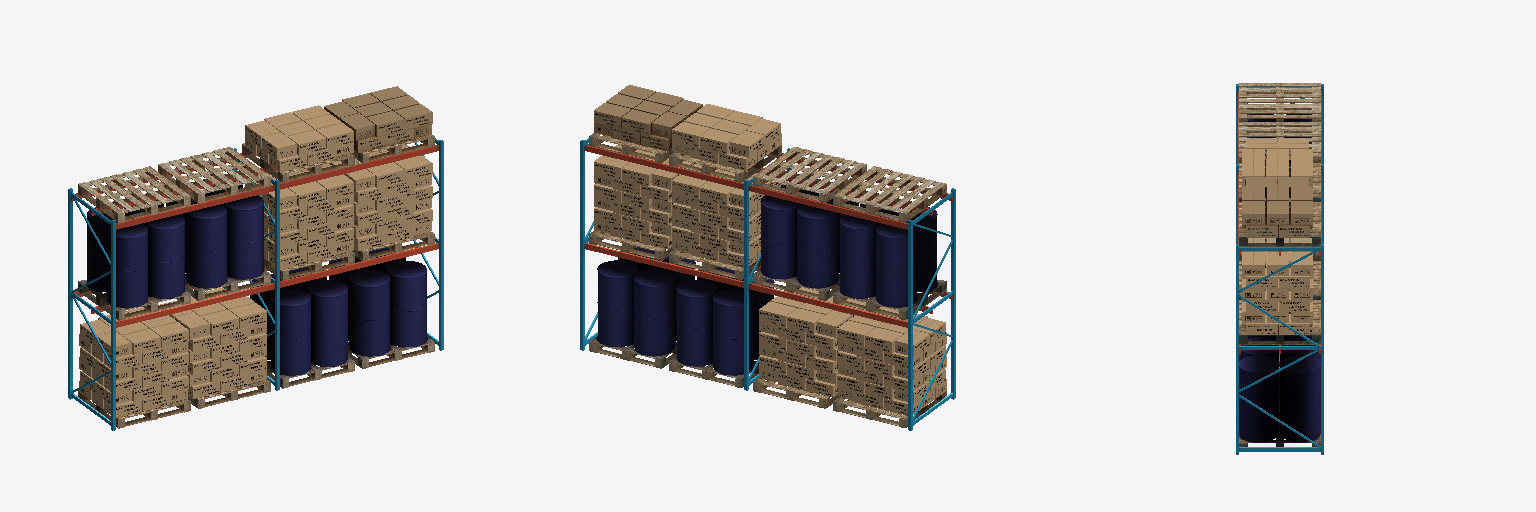
3 renders of one model, left to right at view 1: azimuth 30°, elevation 25°; view 2: azimuth 150°, elevation 25°; view 3: azimuth 270°, elevation 25°, orthographic.
Visible parts, largest first — view 1: Box04, Cylinder21, Cylinder19, Cylinder03, Cylinder20, Box682, Box709, Box311, Box712, Box716, Box713, Box710 (+19 smaller); view 2: Box04, Cylinder21, Cylinder19, Cylinder03, Cylinder20, Box682, Box709, Box311, Box716, Box712, Box713, Box132 (+19 smaller); view 3: Cylinder19, Box04, Box682, Box709, Box311, Box715, Box717, Box544.
Boxes of the visible parts, x1,y1,x2,y2 form: Box04: [68, 138, 443, 430]; Cylinder21: [87, 200, 184, 307]; Cylinder19: [329, 247, 426, 355]; Cylinder03: [250, 267, 347, 375]; Cylinder20: [166, 181, 263, 288]; Box682: [324, 86, 432, 152]; Box709: [78, 166, 190, 222]; Box311: [158, 147, 270, 203]; Box712: [78, 280, 190, 320]; Box716: [242, 143, 354, 182]; Box713: [78, 390, 190, 428]; Box710: [348, 337, 434, 368]; Box04: [580, 134, 955, 430]; Cylinder21: [839, 200, 937, 307]; Cylinder19: [597, 247, 695, 355]; Cylinder03: [676, 267, 774, 374]; Cylinder20: [760, 180, 858, 287]; Box682: [594, 85, 702, 151]; Box709: [833, 166, 946, 222]; Box311: [753, 147, 866, 203]; Box716: [669, 145, 781, 182]; Box712: [833, 280, 946, 320]; Box713: [833, 391, 946, 427]; Box132: [753, 378, 838, 408]; Cylinder19: [1239, 337, 1320, 441]; Box04: [1236, 84, 1323, 454]; Box682: [1242, 177, 1312, 237]; Box709: [1239, 83, 1320, 126]; Box311: [1239, 122, 1320, 162]; Box715: [1239, 300, 1320, 344]; Box717: [1239, 202, 1320, 246]; Box544: [1242, 252, 1264, 275].
Bounding box in the file's own units: 446 × 307 × 104.
12 materials, 9 textured.